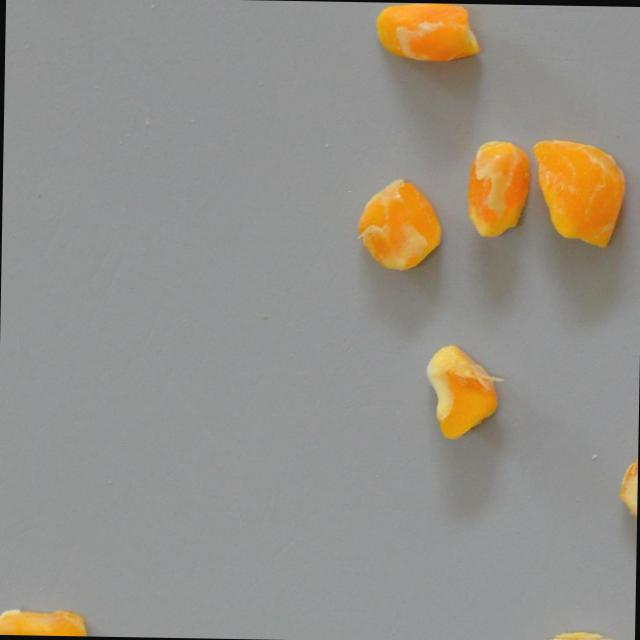pelicula: (532, 137, 625, 250), (355, 178, 442, 272), (424, 343, 506, 441), (463, 139, 532, 241), (374, 1, 485, 62), (0, 603, 91, 636), (618, 434, 638, 538), (518, 631, 635, 640)
